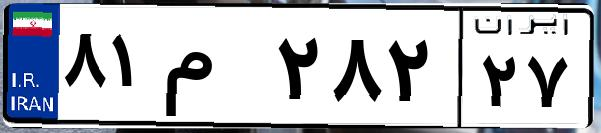1: (110, 28, 158, 98)
2: (270, 28, 330, 110), (385, 28, 445, 110), (475, 38, 525, 113)
7: (525, 38, 570, 115)
8: (330, 28, 385, 110), (57, 26, 110, 100)
م: (158, 20, 270, 120)
